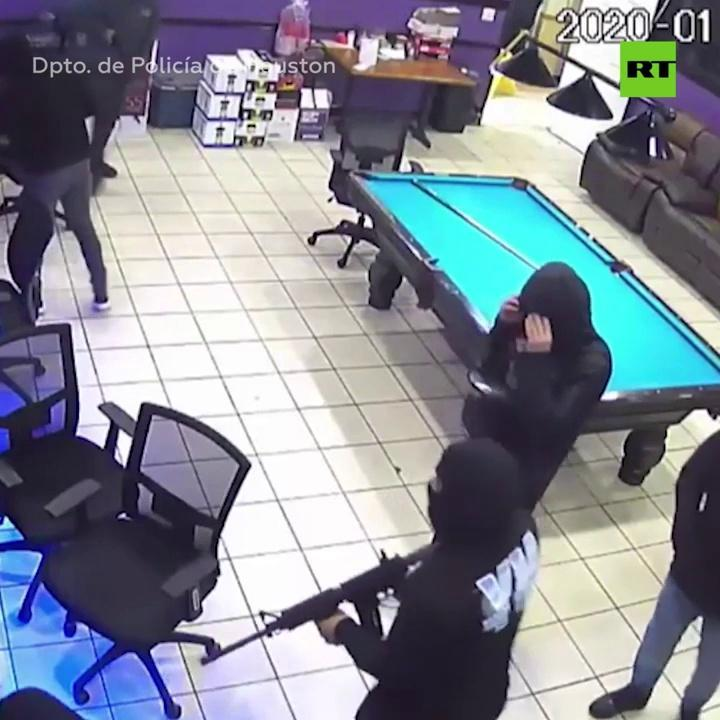Long guns: (195, 534, 446, 692)
